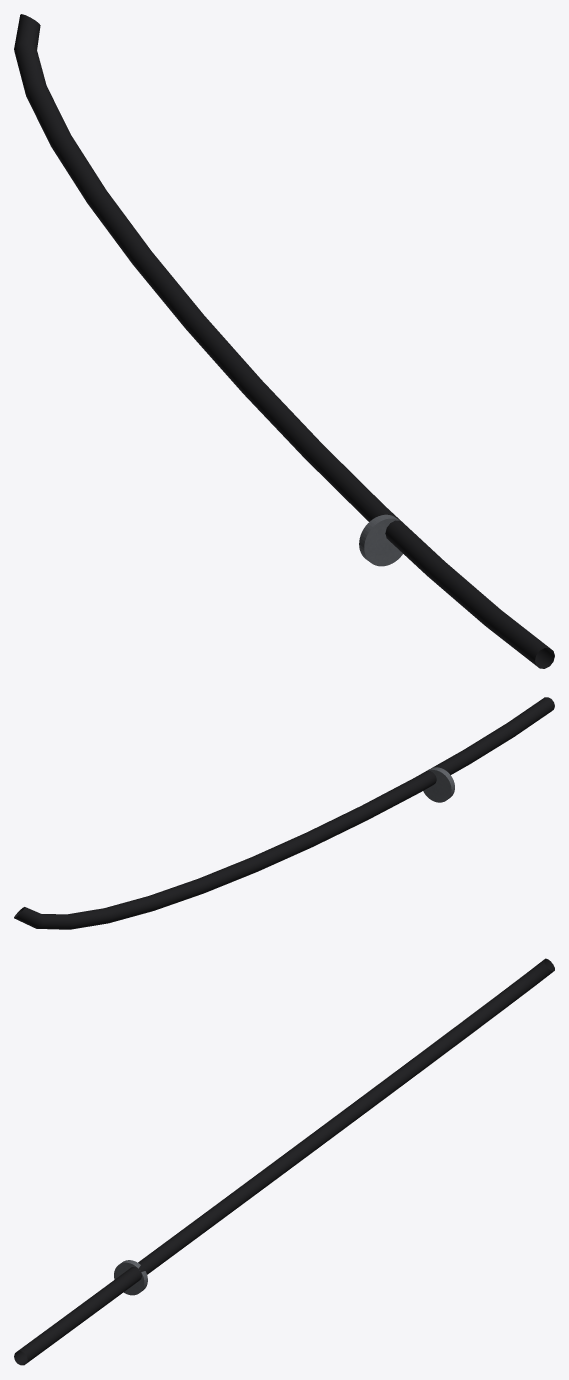
File: cable_loop.glb
3 views of the same model, one above another, from view 1: azimuth 30°, elevation 25°; view 2: azimuth 150°, elevation 25°; view 3: azimuth 330°, elevation 25° (orthographic). The views are drawn at different scales.
Parts seen in each view (by area): view 1: cable_loop; view 2: cable_loop; view 3: cable_loop.
Part boxes in pixels (x1,y1,x2,y2): cable_loop: (14,14,554,668); cable_loop: (14,697,554,929); cable_loop: (14,958,554,1365).
Bounding box in the file's own units: 1.43 × 1.43 × 10.08.
2 materials, 1 textured.
